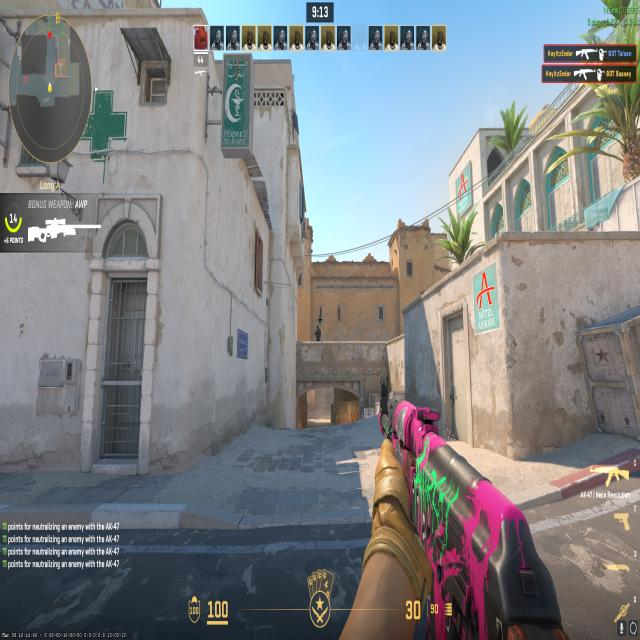ct: (314, 321, 322, 344)
